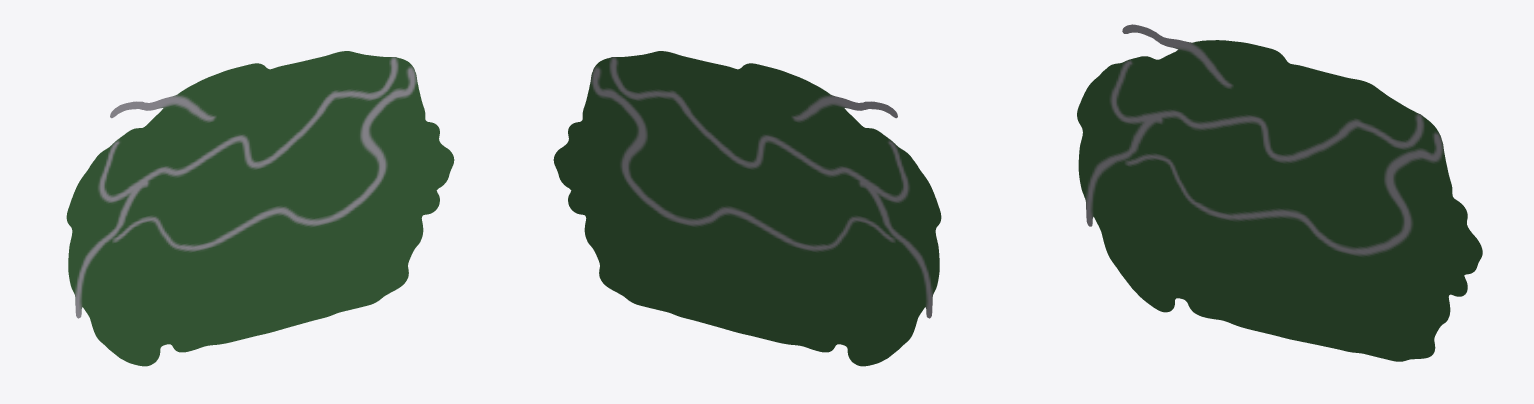
Rendered from bush wiring.glb.
The picture shows the model from 3 angles, left to right: view 1: azimuth 30°, elevation 25°; view 2: azimuth 150°, elevation 25°; view 3: azimuth 330°, elevation 25°; orthographic projection. The views are drawn at different scales.
Parts seen in each view (by area): view 1: bush wiring; view 2: bush wiring; view 3: bush wiring.
Boxes of the visible parts, x1=… form: bush wiring: x1=66, y1=51, x2=454, y2=366; bush wiring: x1=553, y1=51, x2=941, y2=366; bush wiring: x1=1077, y1=24, x2=1482, y2=361.
Bounding box in the file's own units: 4.44 × 2.79 × 1.47e-07.
Materials: 1 (1 with a texture image).
